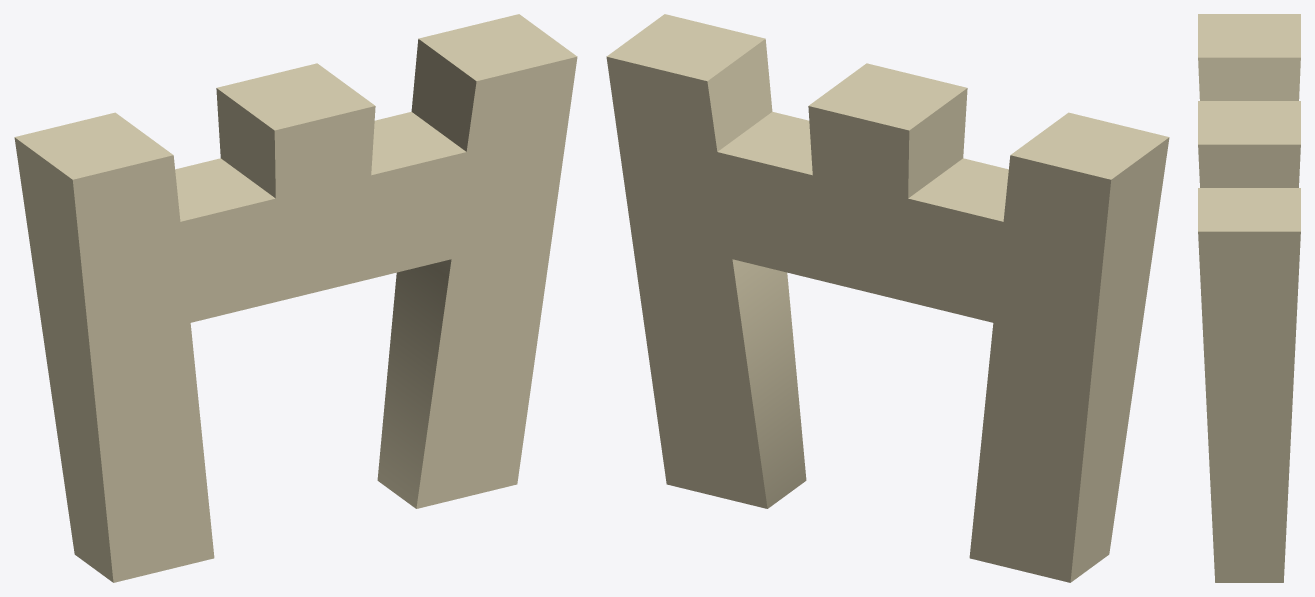
File: Gate.fbx
3 renders of one model, left to right at view 1: azimuth 30°, elevation 25°; view 2: azimuth 150°, elevation 25°; view 3: azimuth 270°, elevation 25°, orthographic. The views are drawn at different scales.
Parts seen in each view (by area): view 1: Gate; view 2: Gate; view 3: Gate.
Part boxes in pixels (left/top/right/bottom): Gate: left=14, top=14, right=577, bottom=582; Gate: left=606, top=14, right=1169, bottom=582; Gate: left=1198, top=14, right=1300, bottom=582.
Bounding box in the file's own units: 150 × 120 × 30.
